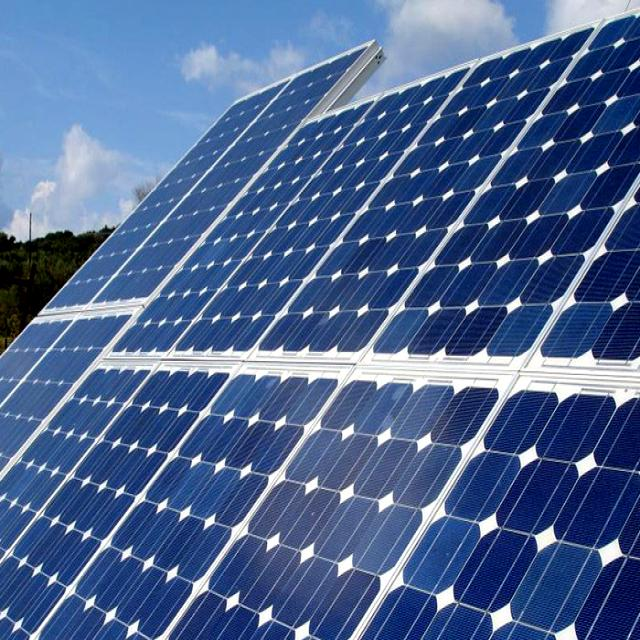crack: (235, 21, 640, 454), (27, 46, 373, 347), (282, 387, 635, 640)
